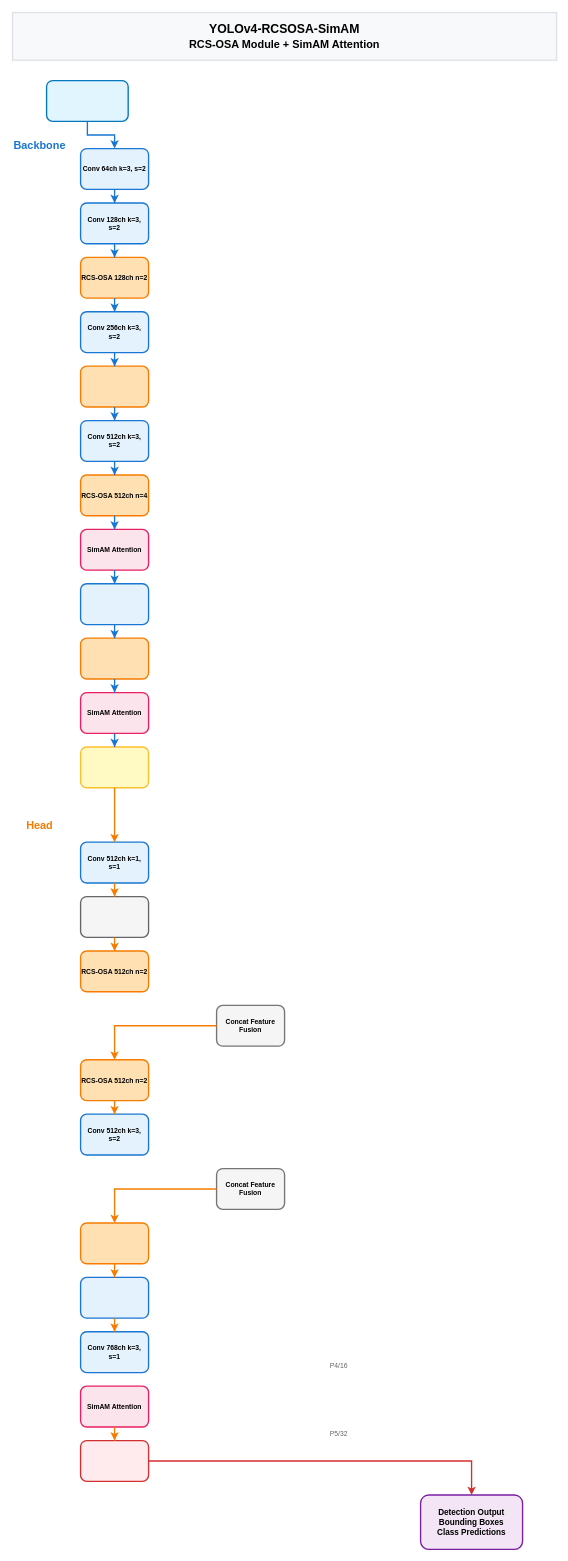
Image size: 568x1561. Some labels were removed from this diagram. The shapes that lost their labels are listed below. From the top down, each one's centre as x and y in pixels, then its label:
the point at 87,101: Input Image 640×640×3
the point at 114,386: RCS-OSA 256ch n=2
the point at 114,604: Conv 1024ch k=3, s=2
the point at 114,658: RCS-OSA 1024ch n=2
the point at 114,767: SPPF 1024ch k=5
the point at 114,917: Upsample ×2
the point at 114,1243: RCS-OSA 768ch n=2
the point at 114,1297: Conv 512ch k=3, s=1
the point at 114,1461: IDetect Classes: nc
